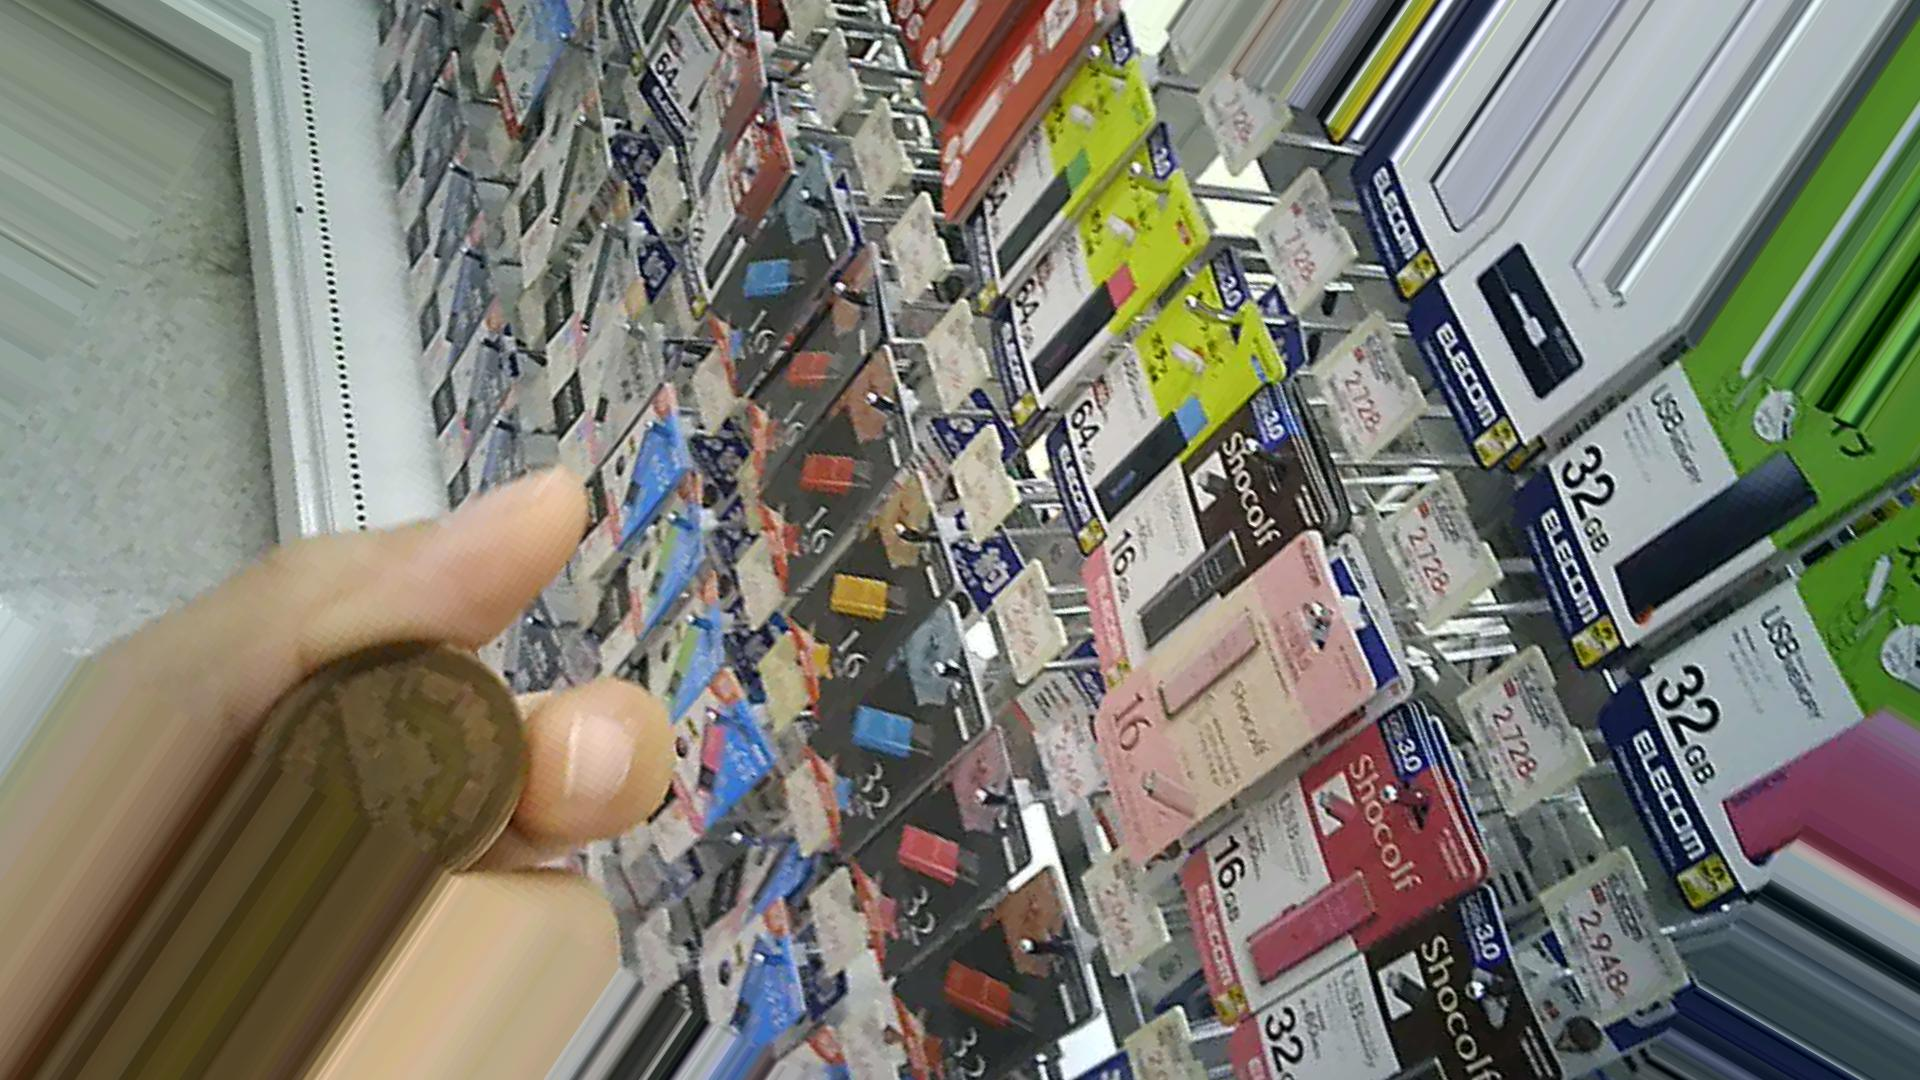10 Yen: (233, 632, 538, 865)
